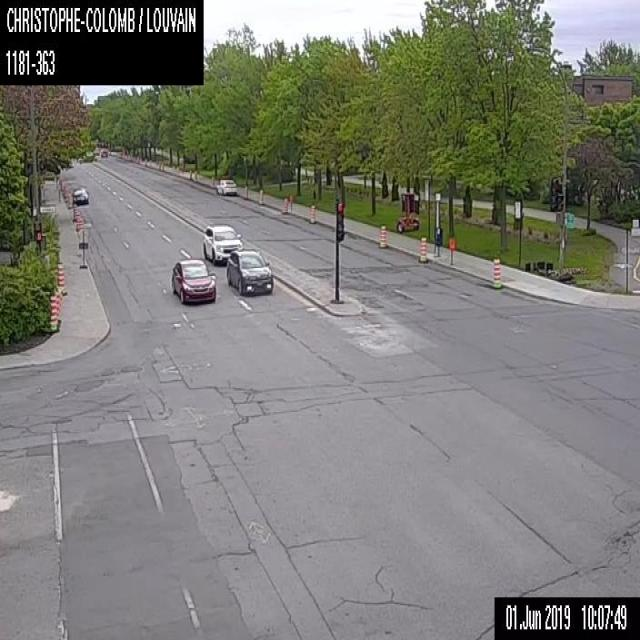construction: (48, 260, 66, 332), (394, 188, 422, 232), (73, 211, 85, 237), (492, 256, 500, 289), (418, 236, 426, 262), (379, 224, 385, 248), (310, 204, 315, 222), (283, 198, 287, 214), (289, 194, 293, 210), (210, 175, 214, 188), (259, 188, 262, 204), (244, 185, 247, 199), (193, 170, 197, 179), (189, 169, 191, 179)
vehicle: (225, 247, 273, 294), (171, 257, 215, 303), (202, 223, 243, 264), (216, 178, 237, 195), (71, 184, 88, 204), (100, 148, 107, 156)
